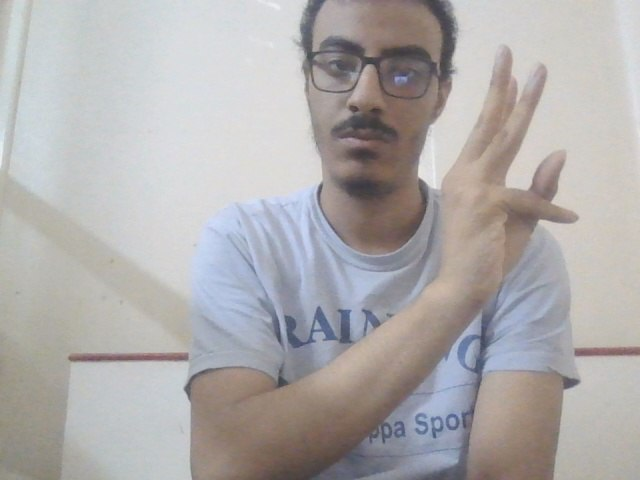Water: (431, 36, 588, 302)
